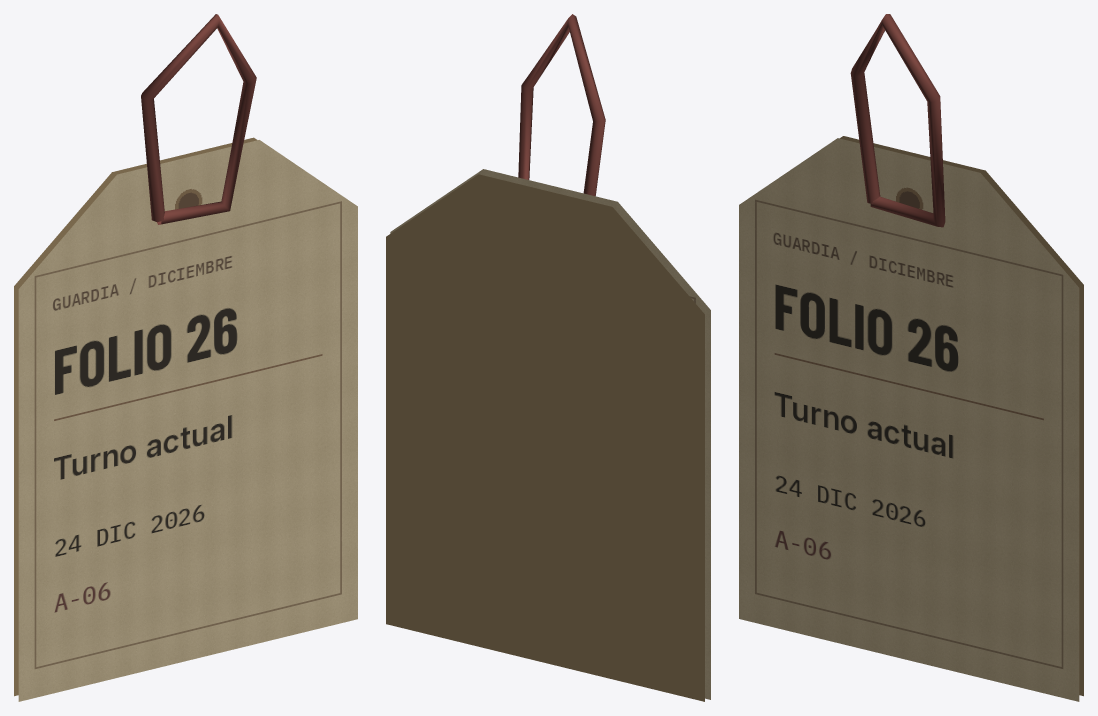
Rendered from tag-26.glb.
The picture shows the model from 3 angles, left to right: view 1: azimuth 30°, elevation 25°; view 2: azimuth 150°, elevation 25°; view 3: azimuth 330°, elevation 25°; orthographic projection. The views are drawn at different scales.
Parts seen in each view (by area): view 1: TAG_FACE_26, TAG_THREAD_26, TAG_BACK_26; view 2: TAG_BACK_26, TAG_FACE_26, TAG_THREAD_26; view 3: TAG_FACE_26, TAG_THREAD_26, TAG_BACK_26.
Boxes of the visible parts, <box> form: TAG_FACE_26: <box>18,140,357,701</box>; TAG_THREAD_26: <box>141,14,256,224</box>; TAG_BACK_26: <box>14,137,257,696</box>; TAG_BACK_26: <box>386,174,704,701</box>; TAG_FACE_26: <box>390,169,710,699</box>; TAG_THREAD_26: <box>518,14,605,196</box>; TAG_FACE_26: <box>739,138,1079,701</box>; TAG_THREAD_26: <box>850,14,945,227</box>; TAG_BACK_26: <box>840,136,1083,696</box>.
Bounding box in the file's own units: 0.22 × 0.4119 × 0.0387.
Materials: 3 (1 with a texture image).
